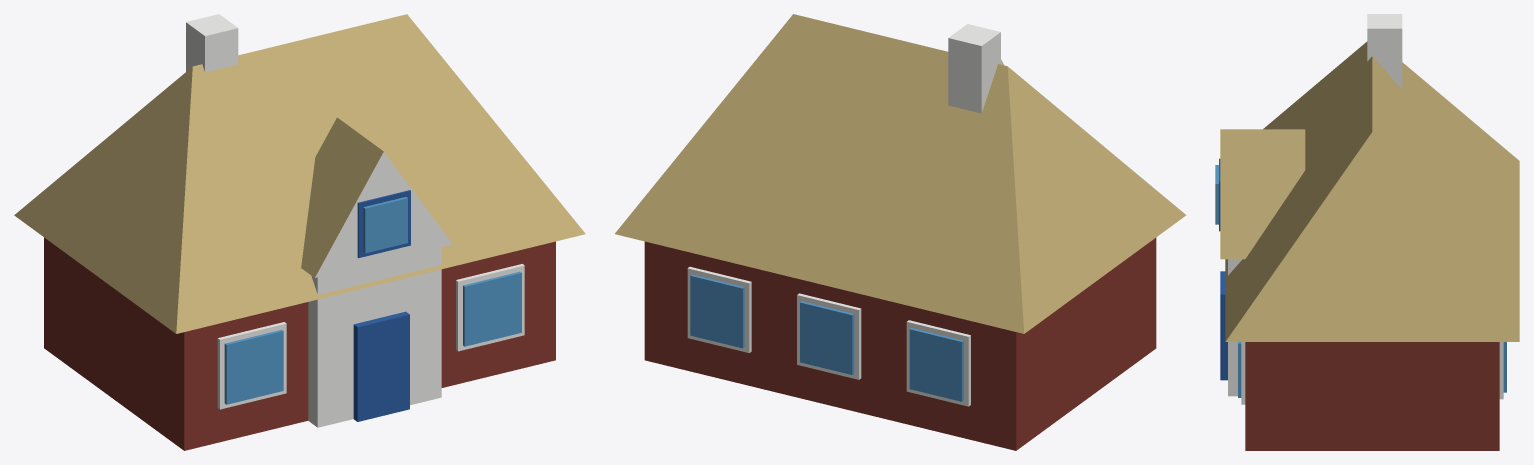
File: 27_frisian_thatch_3.obj
3 renders of one model, left to right at view 1: azimuth 30°, elevation 25°; view 2: azimuth 150°, elevation 25°; view 3: azimuth 270°, elevation 25°, orthographic. The views are drawn at different scales.
Parts seen in each view (by area): view 1: 27_frisian_thatch_3; view 2: 27_frisian_thatch_3; view 3: 27_frisian_thatch_3.
Part boxes in pixels (box(x1,y1,x2,y2)): 27_frisian_thatch_3: box(14, 14, 585, 450); 27_frisian_thatch_3: box(615, 14, 1186, 450); 27_frisian_thatch_3: box(1215, 14, 1519, 450).
Bounding box in the file's own units: 1.72 × 1.38 × 1.22.
